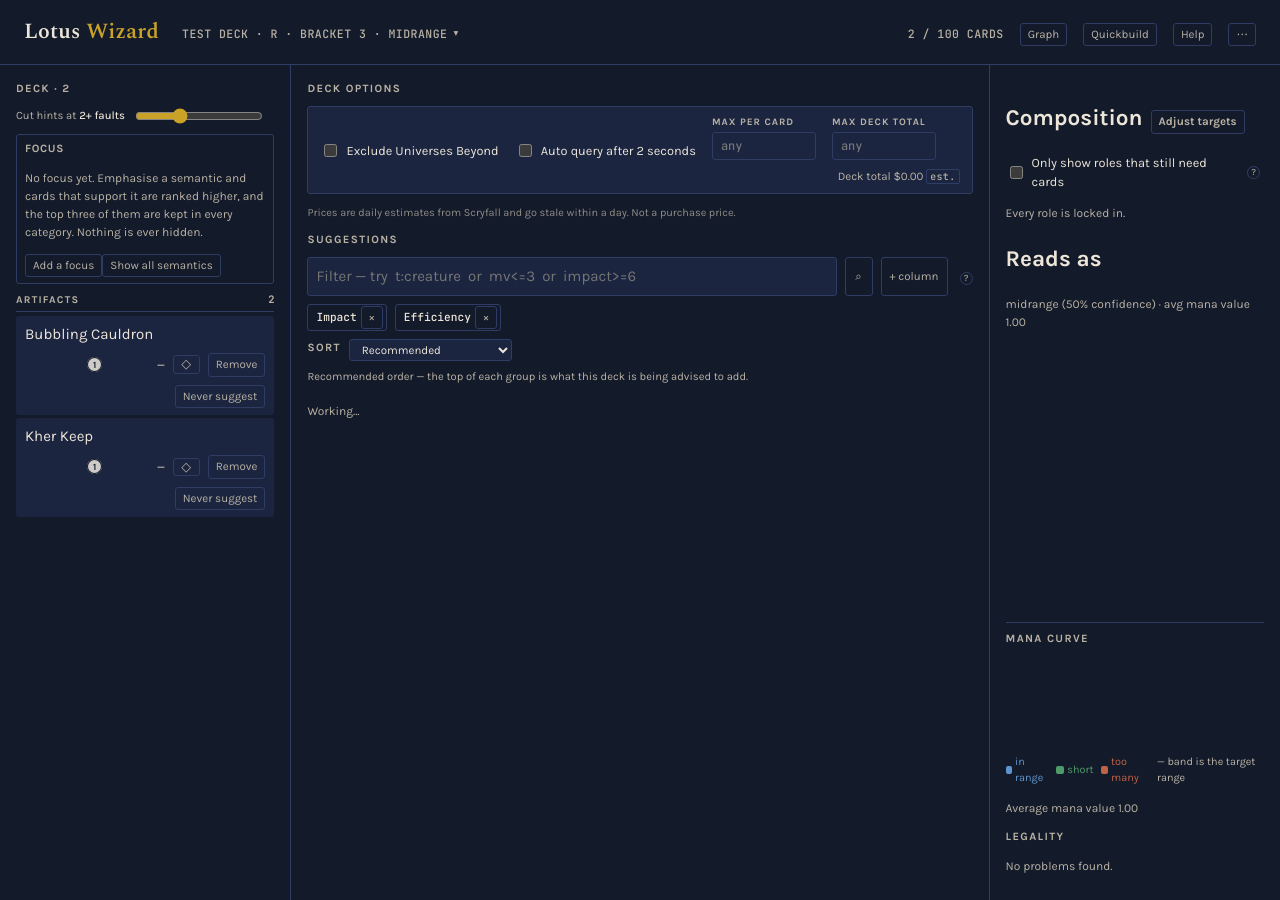
Test: a card named in oracle text › is a control that says what it opens
Click the button "Kher Keep" at (145, 436), box [25, 425, 266, 447]
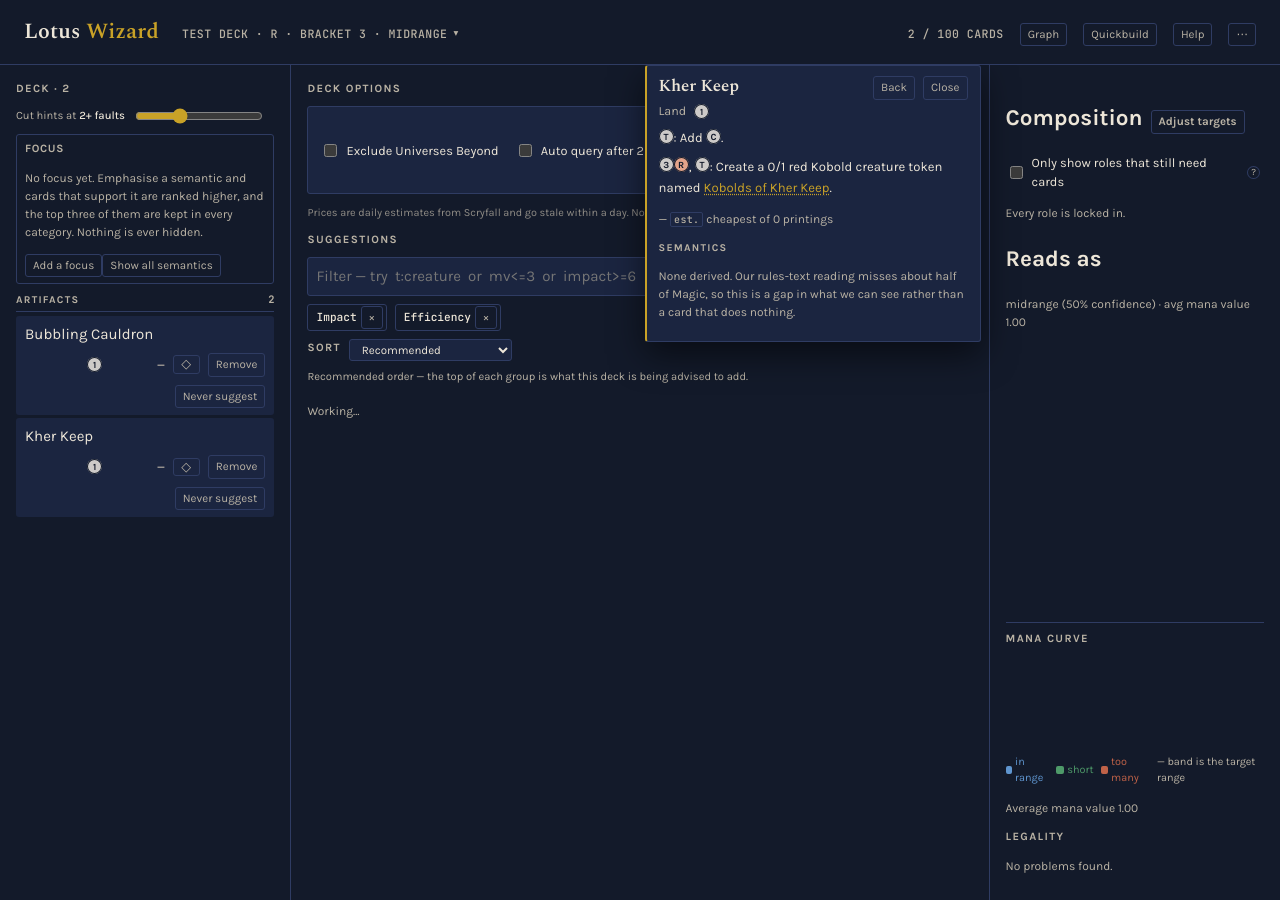
Expected: the button with aria-label "Open Kobolds of Kher Keep" is shown, [704, 178, 829, 198]
